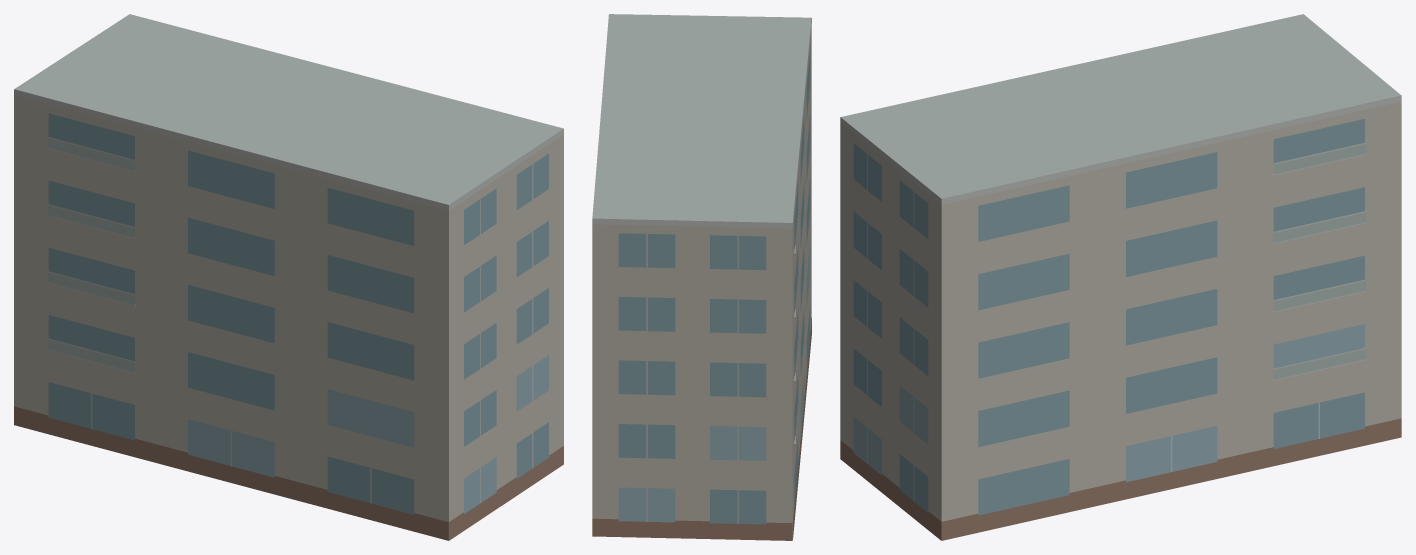
The model's file is survey-upis-32768300.glb.
The picture shows the model from 3 angles, left to right: view 1: azimuth 30°, elevation 25°; view 2: azimuth 150°, elevation 25°; view 3: azimuth 270°, elevation 25°; orthographic projection. The views are drawn at different scales.
Parts seen in each view (by area): view 1: survey-upis-32768300.tmp; view 2: survey-upis-32768300.tmp; view 3: survey-upis-32768300.tmp.
Boxes of the visible parts, x1,y1,x2,y2 form: survey-upis-32768300.tmp: [14, 14, 563, 540]; survey-upis-32768300.tmp: [592, 14, 811, 540]; survey-upis-32768300.tmp: [840, 14, 1401, 540].
Bounding box in the file's own units: 15.95 × 13.75 × 20.45.
